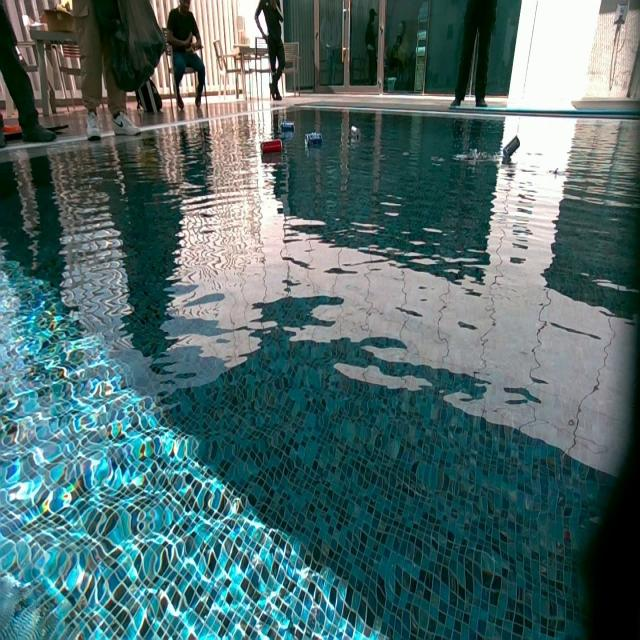Cans: (503, 135, 522, 157), (262, 140, 283, 154), (306, 133, 324, 148), (280, 118, 295, 132), (350, 124, 361, 140)
